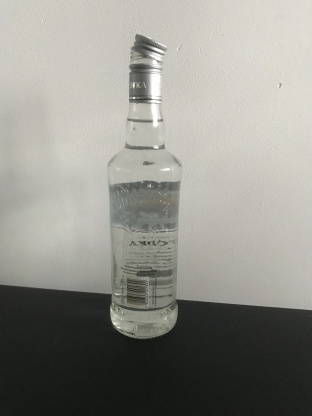nakretka: (126, 31, 168, 104)
